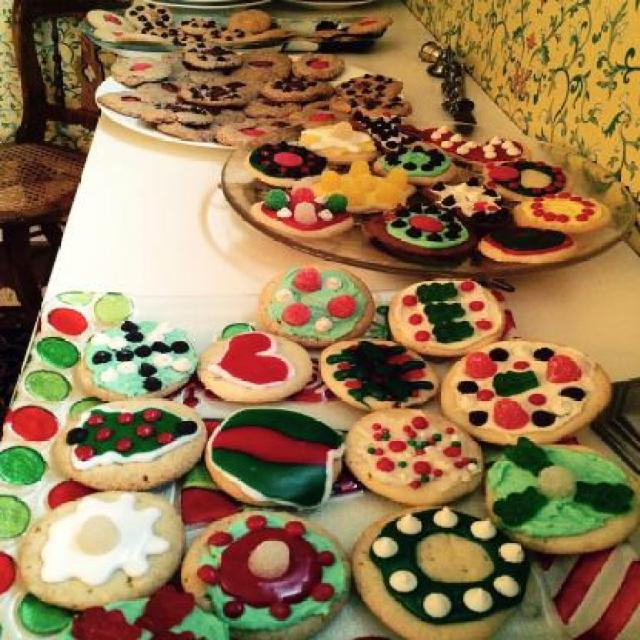Cookie: (15, 261, 639, 640), (246, 109, 609, 271), (83, 0, 417, 149)
